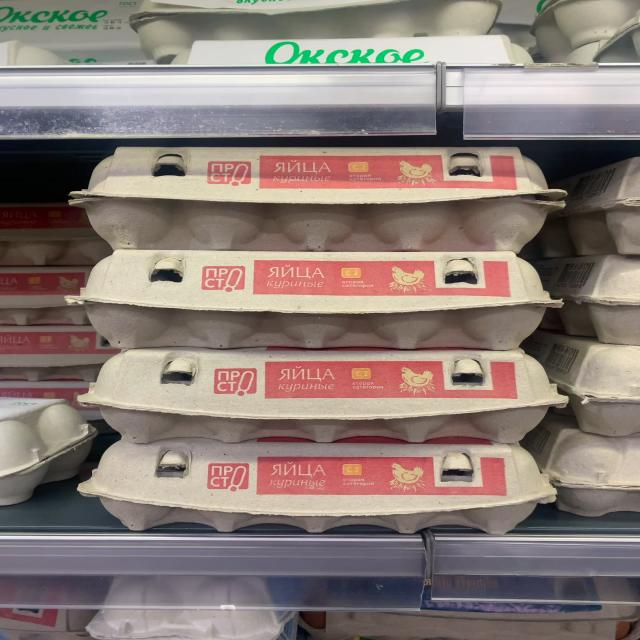egg box: (54, 138, 566, 252), (53, 246, 565, 352), (70, 429, 552, 537), (60, 351, 568, 445), (164, 27, 538, 62)
